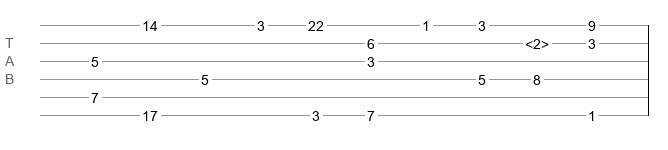1: (422, 18, 430, 28), (588, 108, 596, 118)
14: (142, 18, 158, 28)
17: (142, 108, 158, 118)
22: (308, 18, 324, 28)
3: (257, 18, 265, 28), (312, 108, 320, 118), (367, 54, 375, 64), (478, 18, 486, 28), (588, 36, 596, 46)
5: (91, 54, 99, 64), (201, 72, 209, 82), (478, 72, 486, 82)
6: (367, 36, 375, 46)
7: (91, 90, 99, 100), (367, 108, 375, 118)
8: (533, 72, 541, 82)
9: (588, 18, 596, 28)
harmonic: (525, 36, 549, 46)
